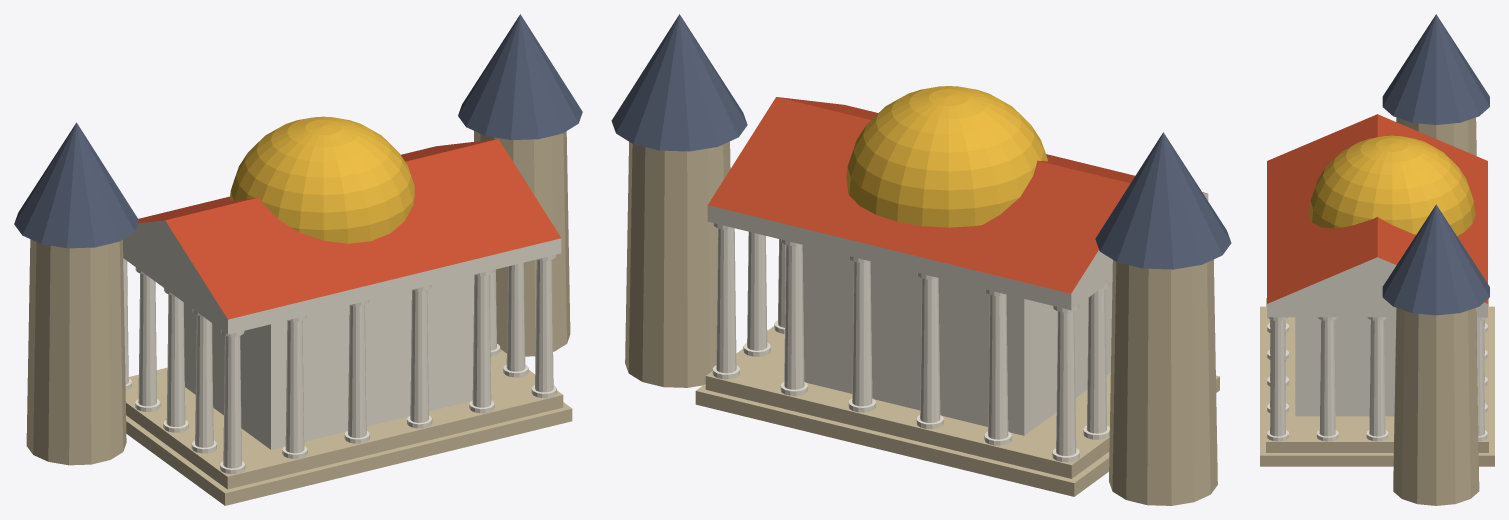
File: building_palace.fbx
3 views of the same model, side by side, from view 1: azimuth 30°, elevation 25°; view 2: azimuth 150°, elevation 25°; view 3: azimuth 270°, elevation 25° (orthographic). The views are drawn at different scales.
Visible parts, largest first — view 1: building_palace; view 2: building_palace; view 3: building_palace.
Part boxes in pixels (left/top/right/bottom): building_palace: left=14, top=14, right=582, bottom=505; building_palace: left=611, top=14, right=1231, bottom=505; building_palace: left=1260, top=14, right=1494, bottom=505.
Size of the model in its own units: 114 by 63.8 by 48.
